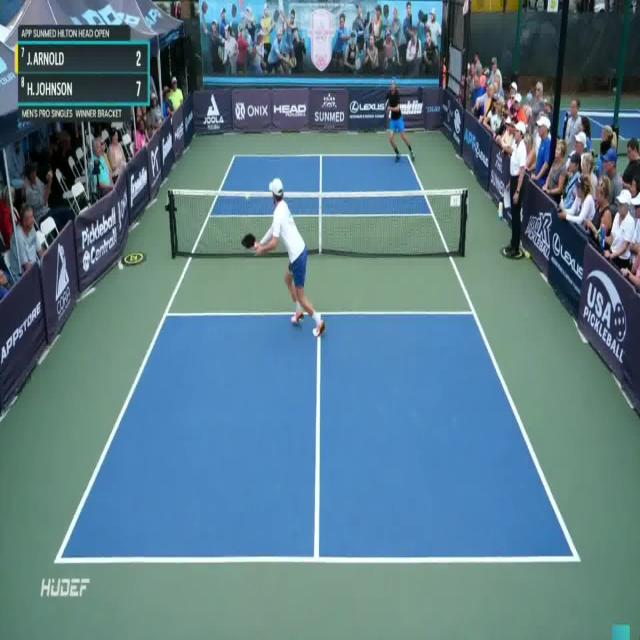Court: (57, 154, 576, 560)
ball: (243, 191, 250, 199)
